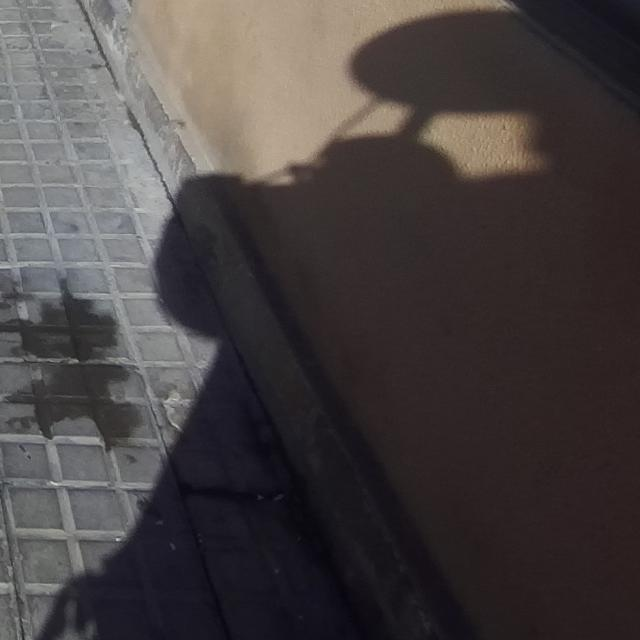calcada_quebrada: (157, 400, 186, 437)
